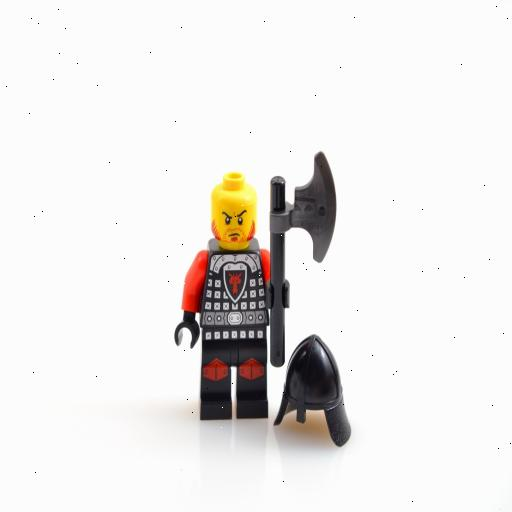Axe: (269, 150, 338, 370)
